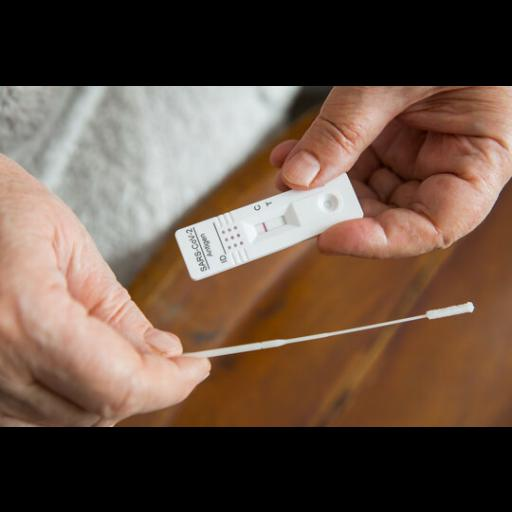Neg: (175, 169, 363, 281)
